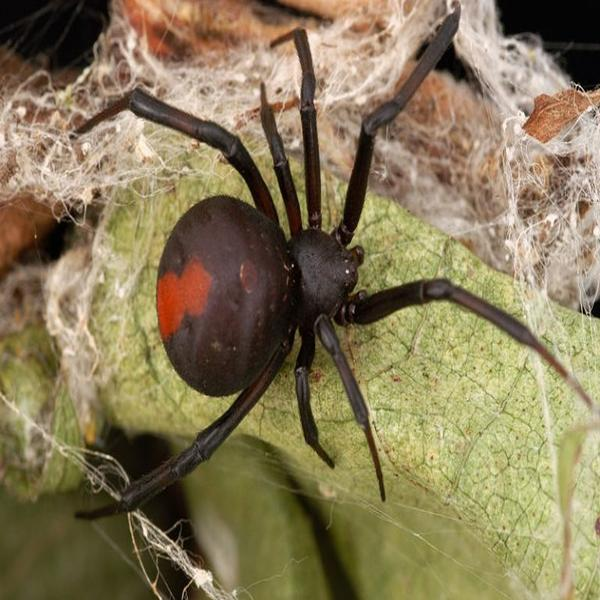Redback Spider: (86, 19, 567, 512)
